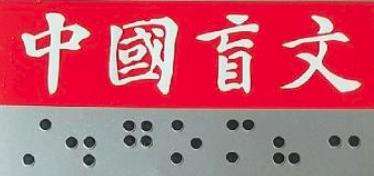Braille: (63, 119, 97, 167), (327, 118, 360, 164), (21, 119, 52, 166), (122, 119, 152, 167), (171, 119, 202, 165), (225, 118, 255, 163), (272, 118, 300, 165)
